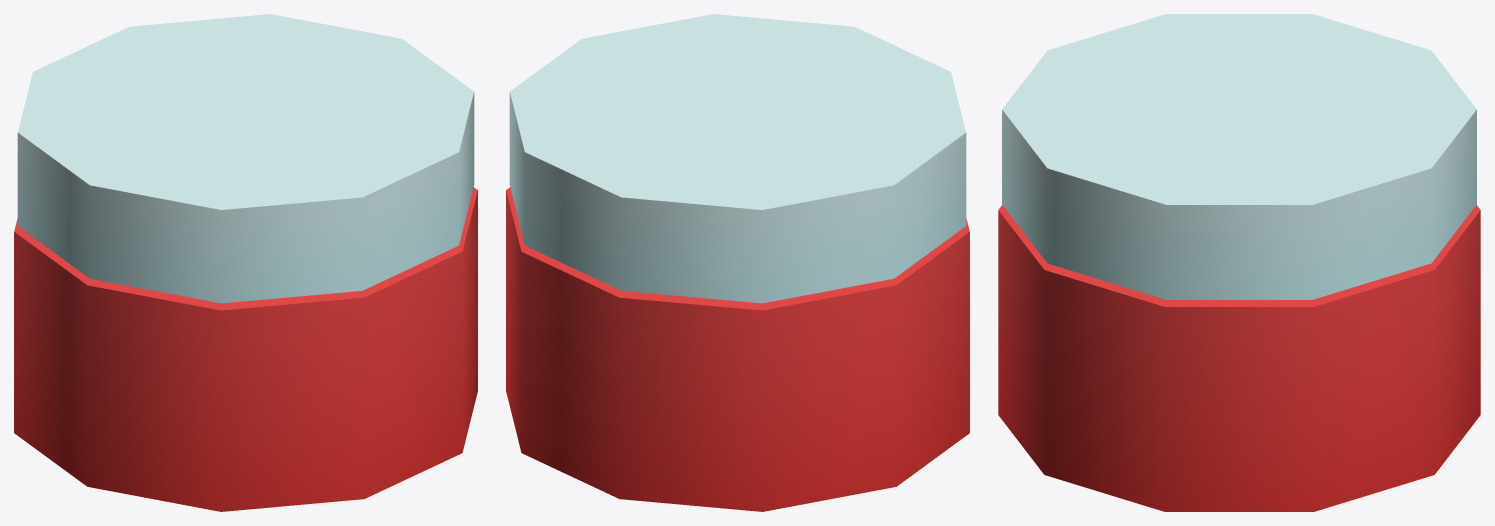
The model's file is cream_jar_red.fbx.
3 views of the same model, side by side, from view 1: azimuth 30°, elevation 25°; view 2: azimuth 150°, elevation 25°; view 3: azimuth 270°, elevation 25° (orthographic).
Visible parts, largest first — view 1: cream_jar_red; view 2: cream_jar_red; view 3: cream_jar_red.
Boxes of the visible parts, x1,y1,x2,y2 form: cream_jar_red: (14,14,477,511); cream_jar_red: (506,14,969,511); cream_jar_red: (998,14,1480,511).
Bounding box in the file's own units: 127 × 93.48 × 134.
